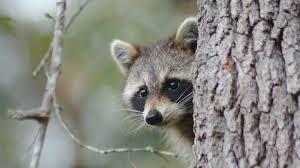raccoon: (103, 12, 204, 168)
